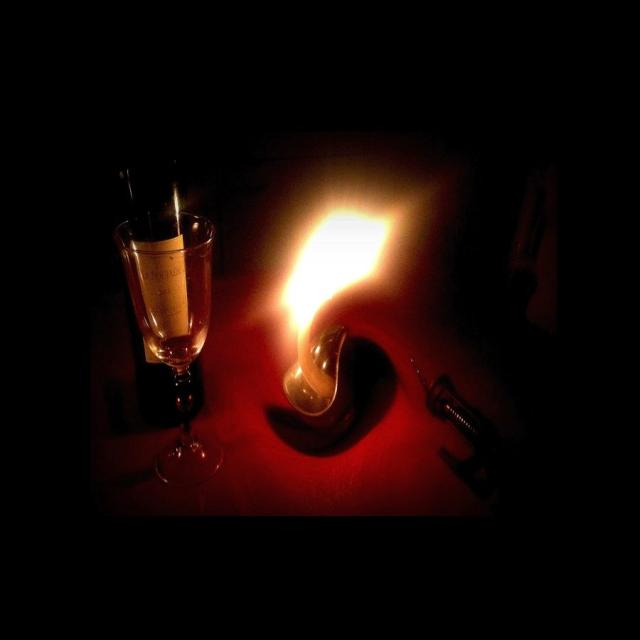Bottle: (102, 71, 199, 396)
Cup: (138, 205, 222, 517)
